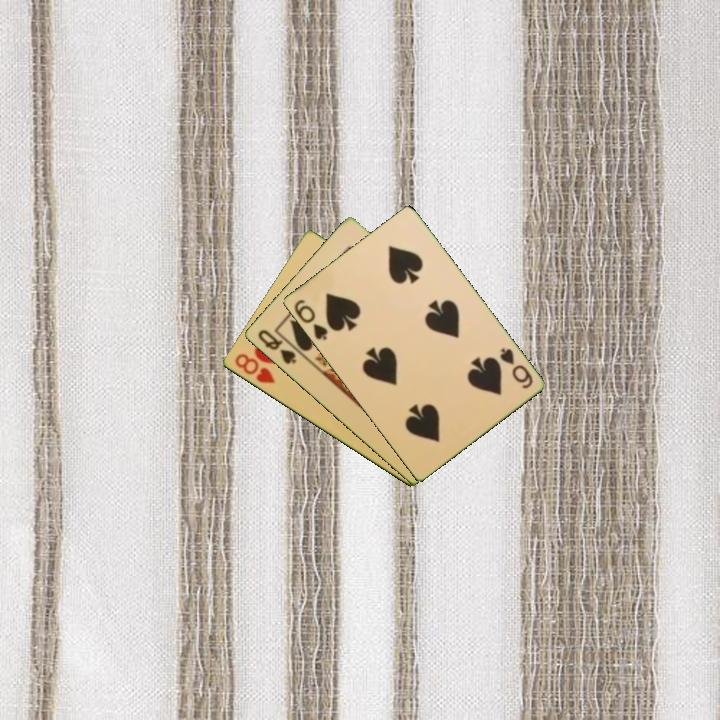6s: (290, 296, 330, 343), (496, 344, 535, 392)
8h: (231, 350, 277, 387)
Qs: (254, 326, 299, 367)
